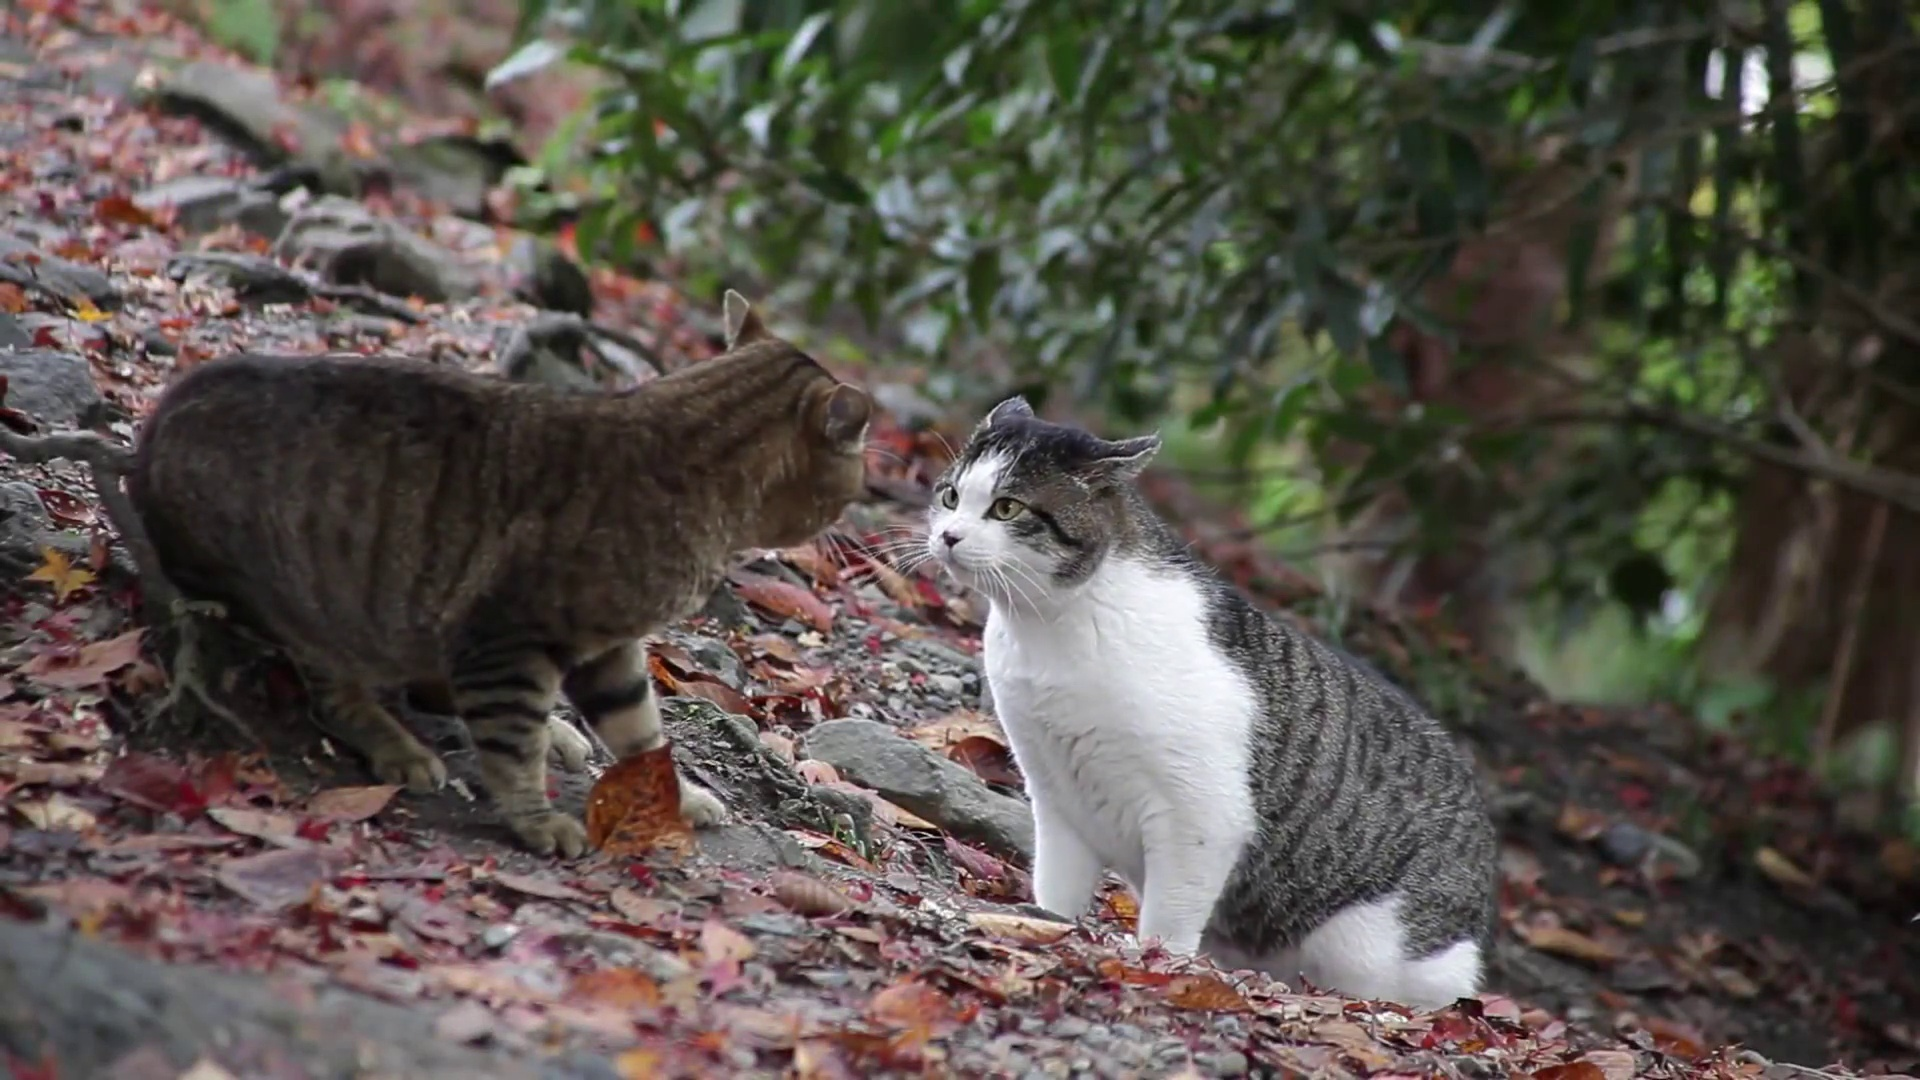black-white: (928, 396, 1491, 1011)
pure black: (138, 290, 872, 860)
